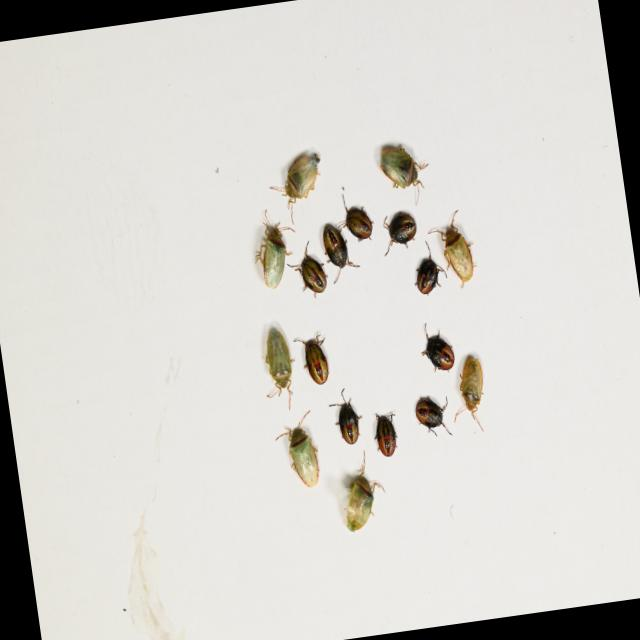stinkbug: (264, 150, 330, 232), (331, 456, 392, 537), (374, 136, 438, 212), (271, 408, 326, 494), (254, 326, 303, 412), (456, 352, 500, 438)
